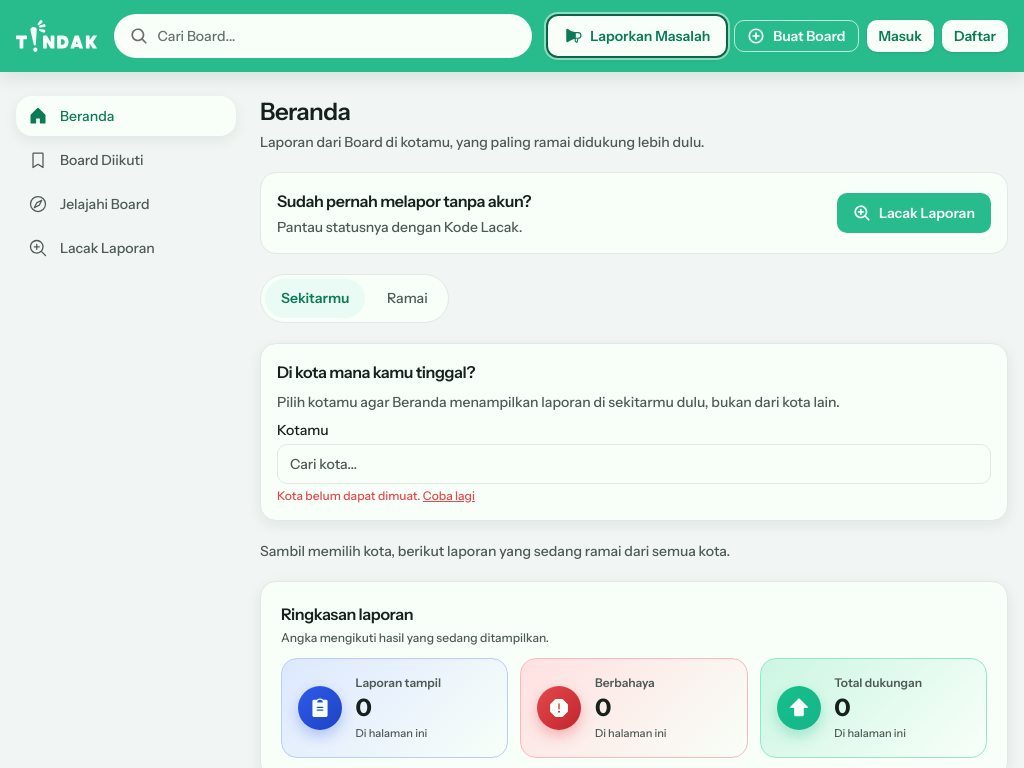
Board populer sebelum mengetik › header menampilkan Board terpopuler saat kotak cari difokuskan
What coordinates should you click on to do the following:
click the dropdown labelled "Cari Board"
I would click on:
 (323, 36)
Its box is [114,14,532,58].
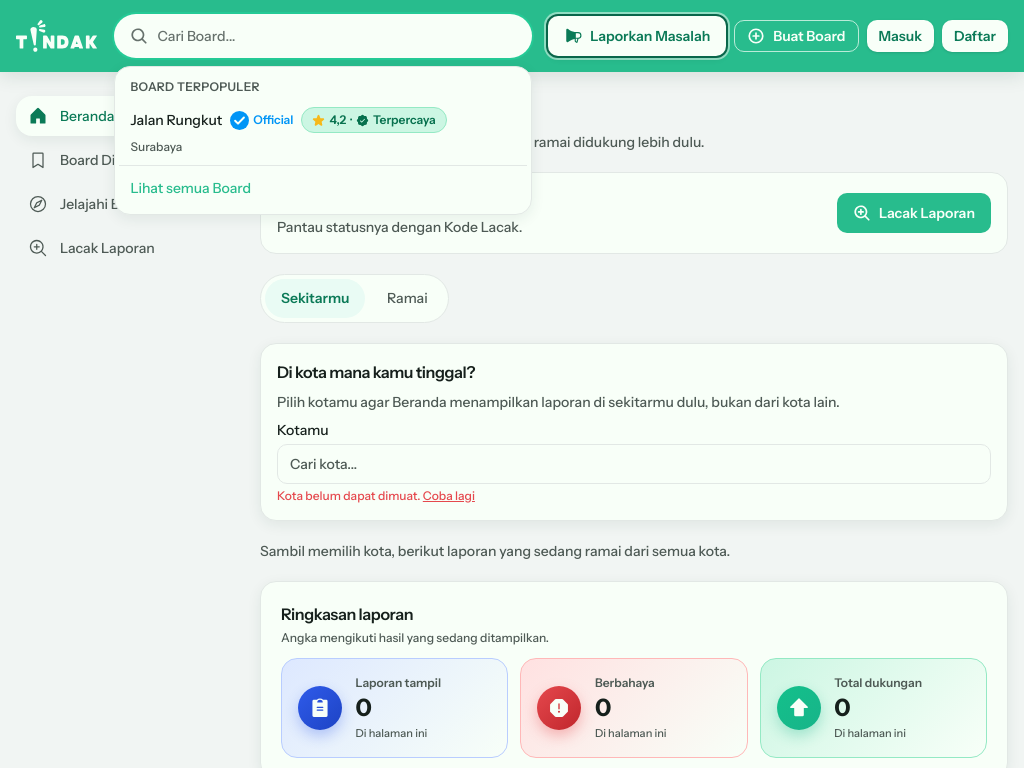
Result: the text "Board terpopuler" is shown at [130,79,260,94]
Result: the option "Jalan Rungkut Official 4,2 · Terpercaya Surabaya" is shown at [118,99,527,165]
Result: the option "Lihat semua Board" is shown at [118,165,527,210]
